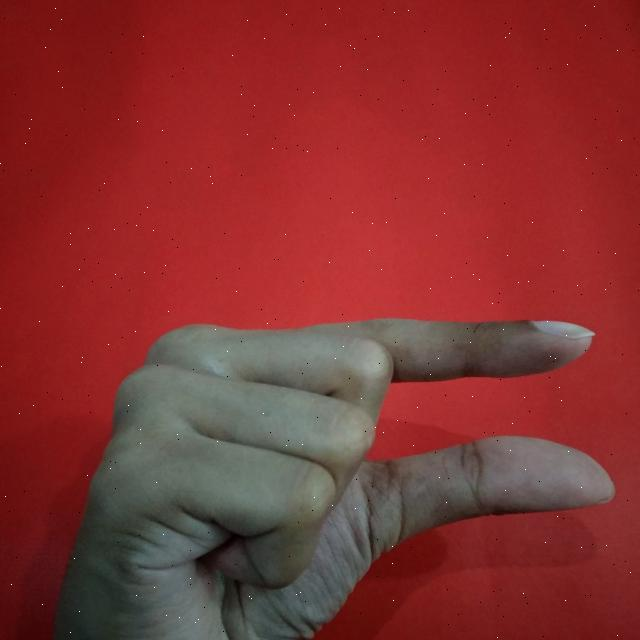G: (50, 312, 618, 640)
